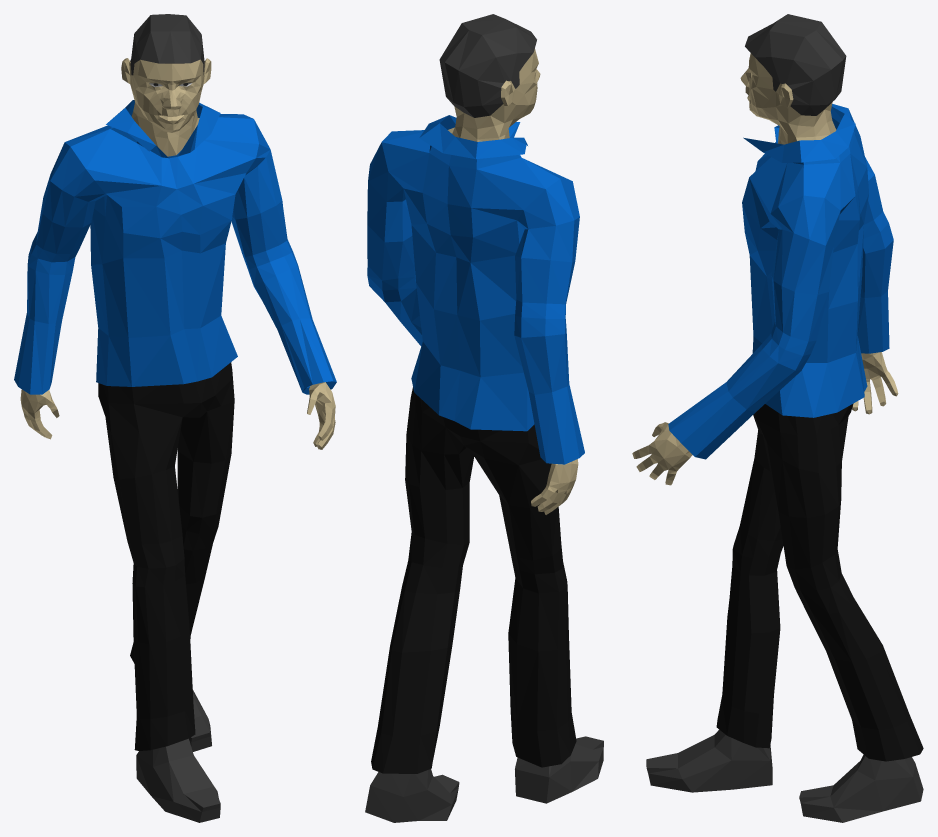
File: person2.dae
3 views of the same model, side by side, from view 1: azimuth 30°, elevation 25°; view 2: azimuth 150°, elevation 25°; view 3: azimuth 270°, elevation 25° (orthographic). The views are drawn at different scales.
Visible parts, largest first — view 1: material_Shape_Coord_Material__5__Surf, material_Shape_Coord_Material__1__Surf, material_Shape_Coord_Material__6__Surf, material_Shape_Coord_Material__2__Surf, material_Shape_Coord_Material__4__Surf; view 2: material_Shape_Coord_Material__5__Surf, material_Shape_Coord_Material__1__Surf, material_Shape_Coord_Material__2__Surf, material_Shape_Coord_Material__4__Surf, material_Shape_Coord_Material__6__Surf; view 3: material_Shape_Coord_Material__5__Surf, material_Shape_Coord_Material__1__Surf, material_Shape_Coord_Material__2__Surf, material_Shape_Coord_Material__6__Surf, material_Shape_Coord_Material__4__Surf.
Boxes of the visible parts, bbox=[...] form: material_Shape_Coord_Material__5__Surf: bbox=[14, 100, 336, 394]; material_Shape_Coord_Material__1__Surf: bbox=[98, 362, 234, 750]; material_Shape_Coord_Material__6__Surf: bbox=[20, 58, 335, 449]; material_Shape_Coord_Material__2__Surf: bbox=[136, 83, 220, 822]; material_Shape_Coord_Material__4__Surf: bbox=[130, 14, 204, 75]; material_Shape_Coord_Material__5__Surf: bbox=[367, 115, 584, 464]; material_Shape_Coord_Material__1__Surf: bbox=[371, 387, 576, 773]; material_Shape_Coord_Material__2__Surf: bbox=[365, 736, 603, 822]; material_Shape_Coord_Material__4__Surf: bbox=[439, 14, 536, 117]; material_Shape_Coord_Material__6__Surf: bbox=[448, 49, 578, 514]; material_Shape_Coord_Material__5__Surf: bbox=[668, 104, 893, 459]; material_Shape_Coord_Material__1__Surf: bbox=[716, 403, 923, 761]; material_Shape_Coord_Material__2__Surf: bbox=[646, 729, 923, 822]; material_Shape_Coord_Material__6__Surf: bbox=[632, 53, 898, 485]; material_Shape_Coord_Material__4__Surf: bbox=[745, 14, 846, 115].
Bounding box in the file's own units: 7.14 × 21.15 × 7.23.
